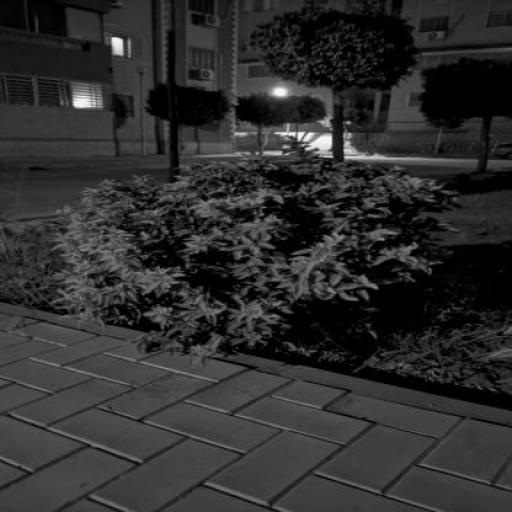street light: (136, 66, 148, 158), (273, 88, 292, 132)
